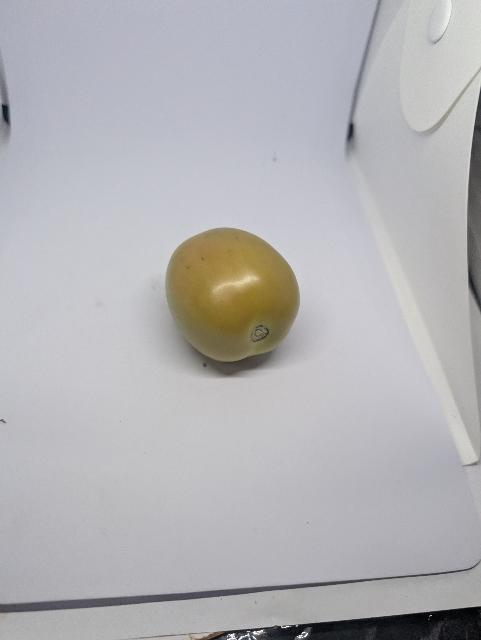breaker: (165, 225, 305, 364)
